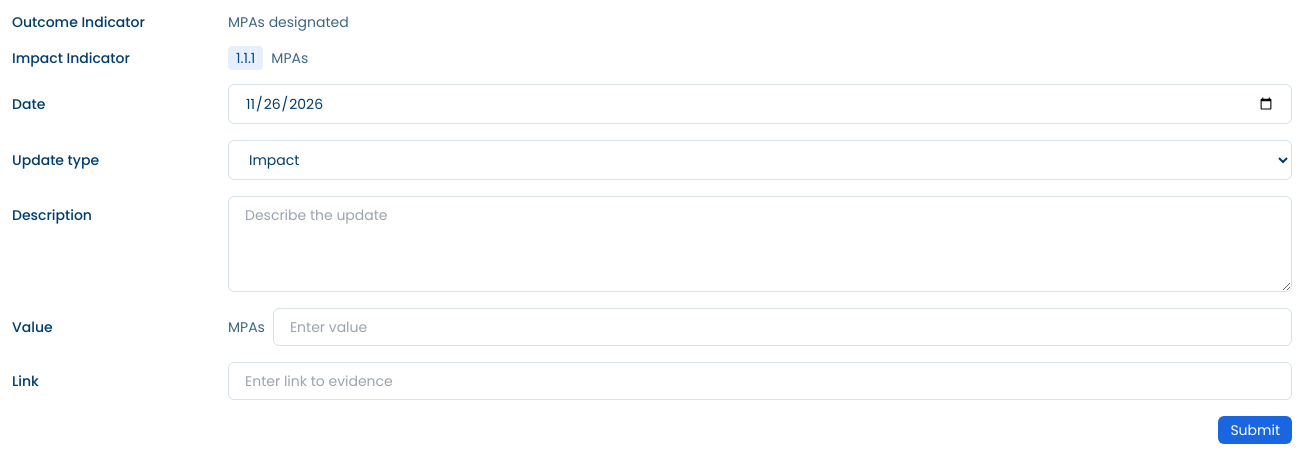
Test: an outcome Impact Update cannot be submitted without a description
In the number field labelled "Value": (782, 327) left=273, top=308, right=1292, bottom=346, type "2"
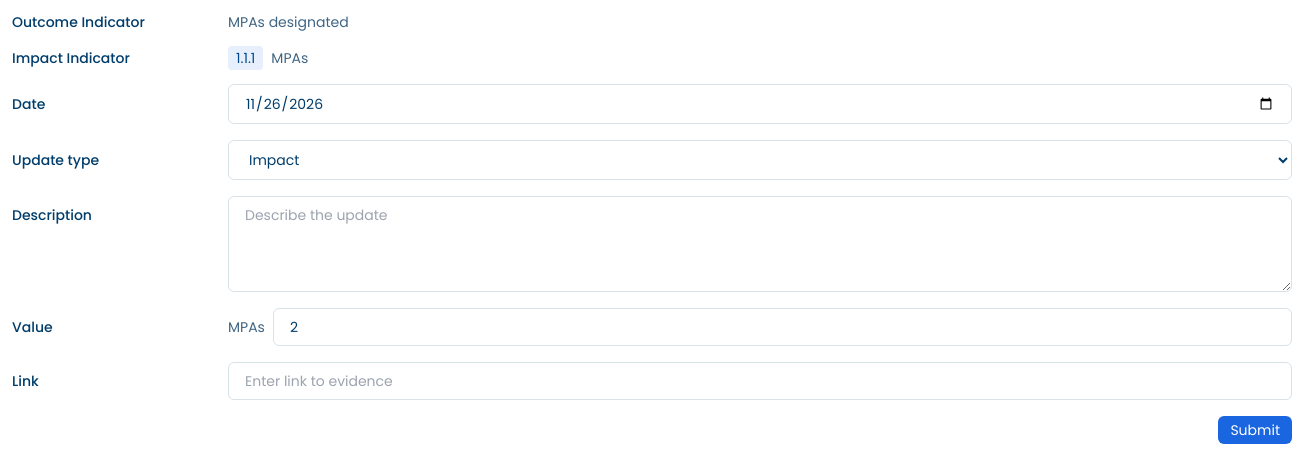
Click the button "Submit": click(1255, 430) left=1218, top=416, right=1292, bottom=444
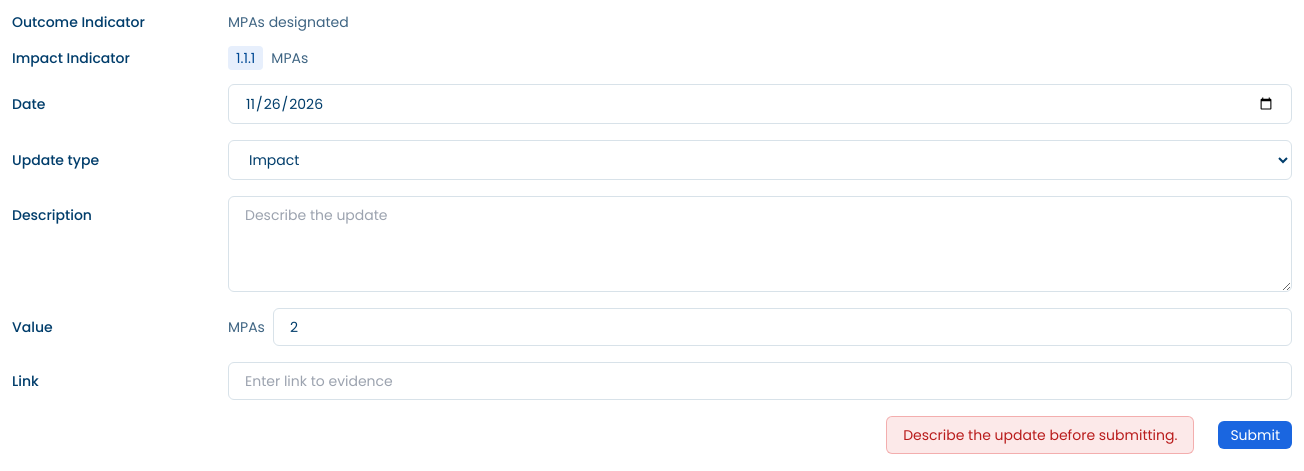
Check: the message shows "Describe the update", box left=903, top=425, right=1177, bottom=445
